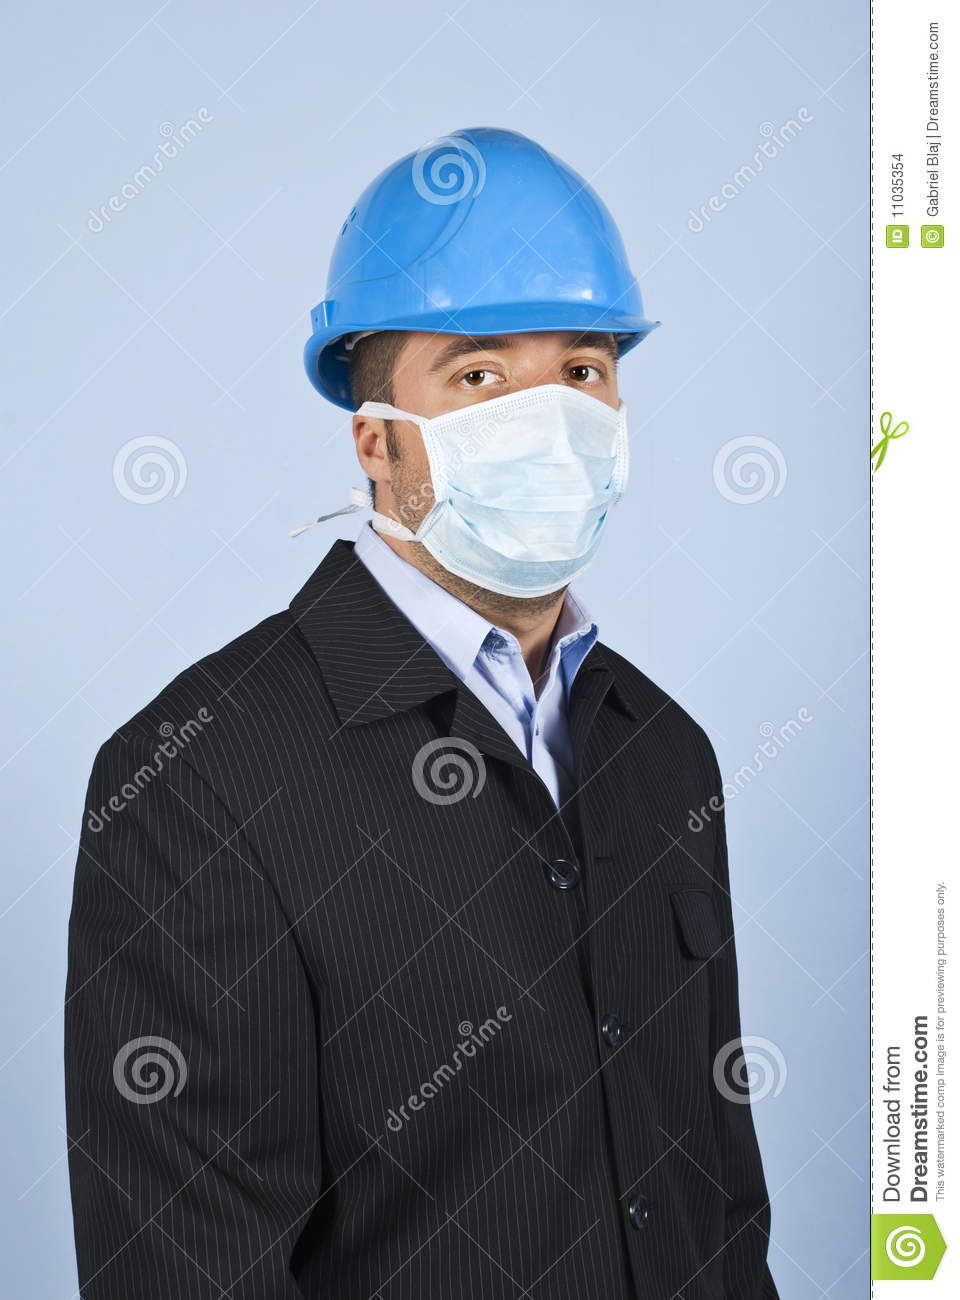mask: (415, 406, 629, 602)
